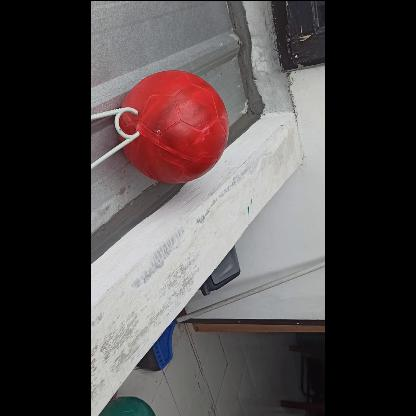red_ball: (120, 70, 230, 181)
